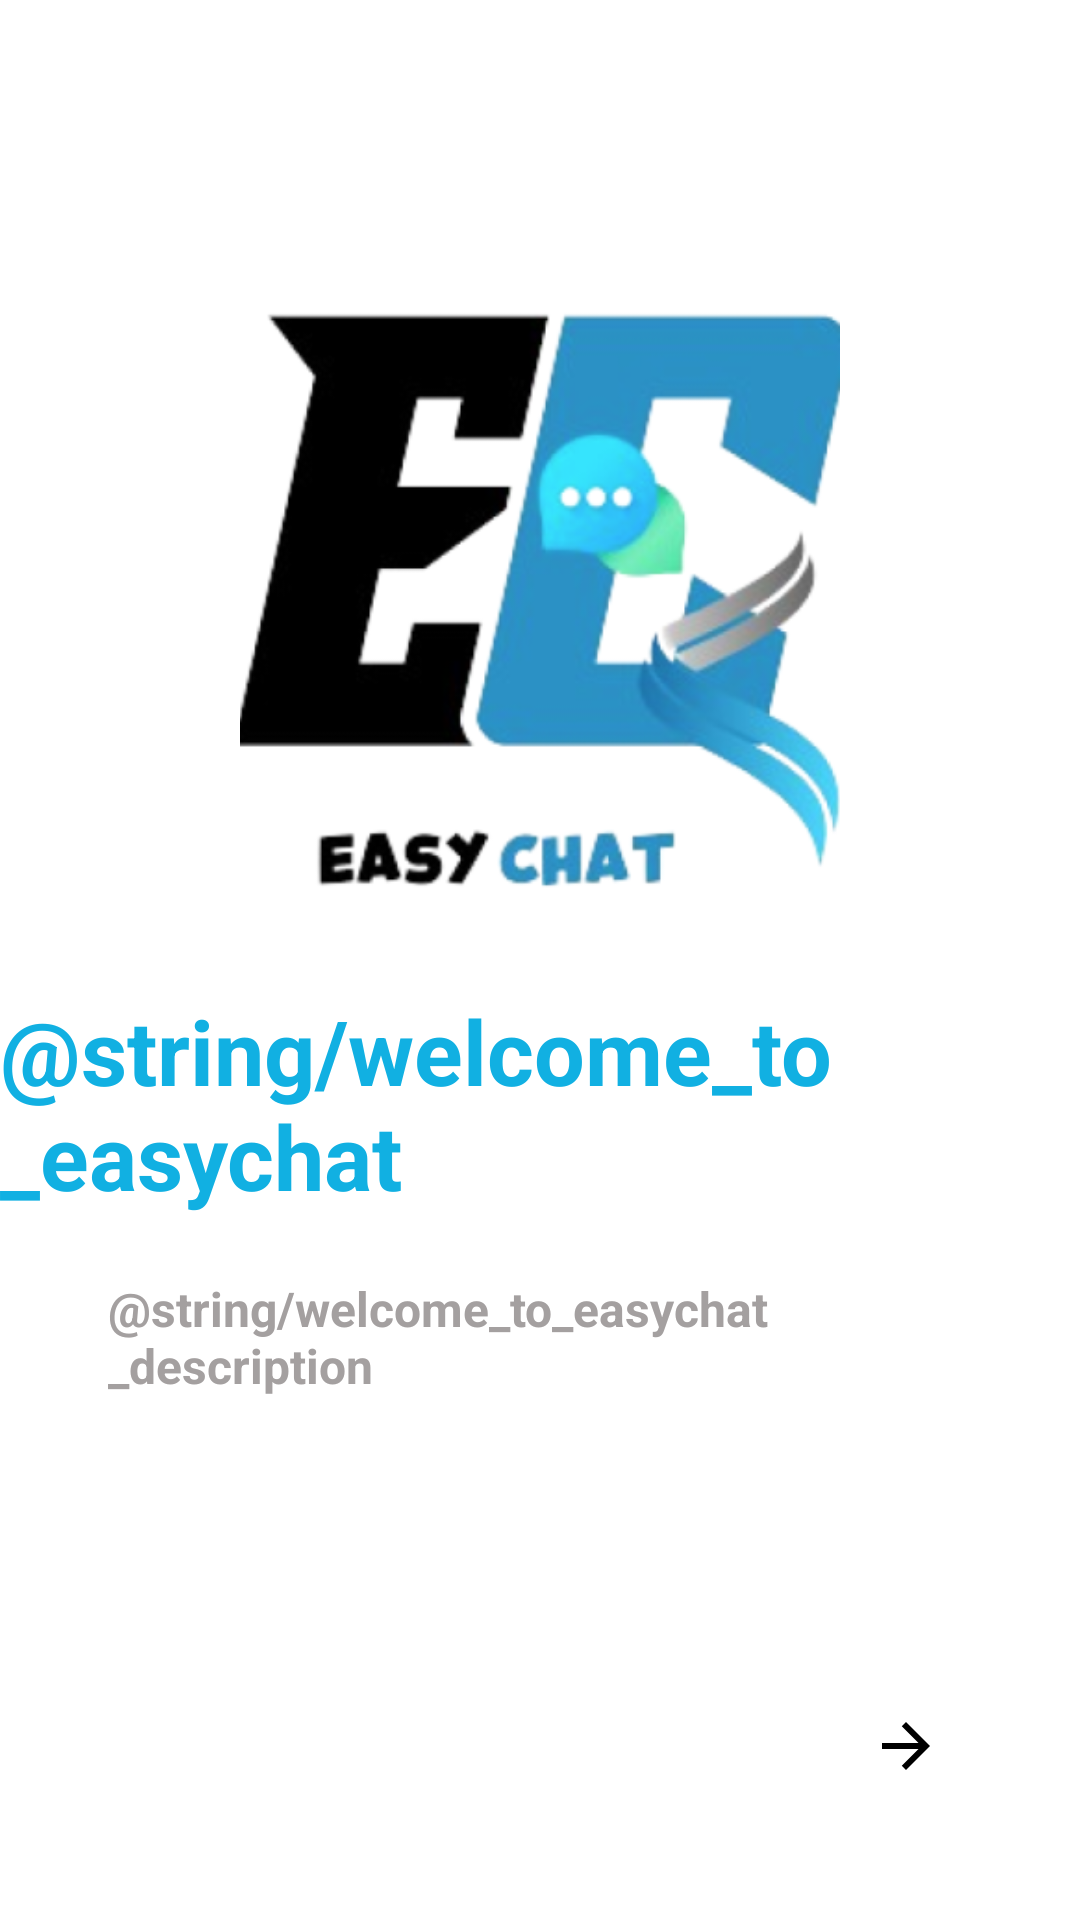

Icon click points for this 1080x1920 phone screenshot, format (x=x, y=y):
arrow forward: (x=906, y=1746)
